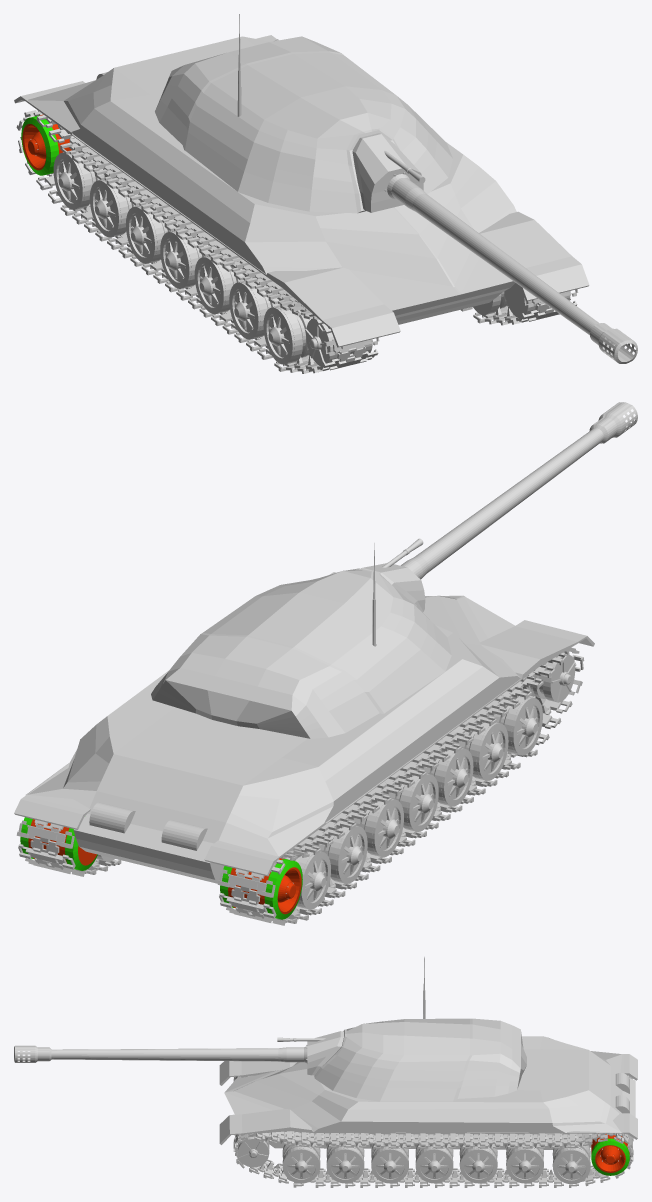
3 renders of one model, top to bottom at view 1: azimuth 30°, elevation 25°; view 2: azimuth 150°, elevation 25°; view 3: azimuth 270°, elevation 25°, orthographic. The views are drawn at different scales.
Visible parts, largest first — view 1: корпус, башня, Cube.003, дуло, Cylinder.088, Cylinder.089, Cylinder.106, Cylinder.107, Cylinder.142, Cylinder.125, Cylinder.124, Cylinder.157 (+3 smaller); view 2: корпус, башня, Cube.003, дуло, Cylinder.089, Cylinder.124, Cylinder.088, Cylinder.107, Cylinder.142, Cylinder.125, Cylinder.106, Cylinder.159 (+6 smaller); view 3: корпус, башня, дуло, Cube.003, Cylinder.071, Cylinder.053, Cylinder.070, Cylinder.034, Cylinder, Cylinder.035, Cylinder.052, Cylinder.158 (+2 smaller).
Part boxes in pixels (bbox=[...]): корпус: bbox=[27, 36, 516, 324]; башня: bbox=[155, 36, 452, 213]; Cube.003: bbox=[14, 35, 589, 347]; дуло: bbox=[352, 133, 637, 363]; Cylinder.088: bbox=[263, 305, 313, 364]; Cylinder.089: bbox=[229, 280, 288, 339]; Cylinder.106: bbox=[53, 150, 115, 209]; Cylinder.107: bbox=[89, 178, 150, 237]; Cylinder.142: bbox=[194, 256, 254, 314]; Cylinder.125: bbox=[160, 230, 219, 288]; Cylinder.124: bbox=[125, 205, 185, 263]; Cylinder.157: bbox=[22, 114, 71, 172]; корпус: bbox=[25, 595, 520, 883]; башня: bbox=[151, 568, 451, 738]; Cube.003: bbox=[14, 572, 594, 876]; дуло: bbox=[361, 402, 637, 612]; Cylinder.089: bbox=[453, 722, 508, 780]; Cylinder.124: bbox=[348, 798, 403, 857]; Cylinder.088: bbox=[488, 696, 542, 755]; Cylinder.107: bbox=[312, 825, 367, 883]; Cylinder.142: bbox=[418, 748, 473, 806]; Cylinder.125: bbox=[383, 773, 438, 831]; Cylinder.106: bbox=[284, 851, 330, 909]; Cylinder.159: bbox=[522, 654, 575, 702]; корпус: bbox=[224, 1036, 635, 1149]; башня: bbox=[314, 1018, 526, 1101]; дуло: bbox=[14, 1031, 343, 1075]; Cube.003: bbox=[219, 1054, 637, 1144]; Cylinder.071: bbox=[282, 1136, 320, 1183]; Cylinder.053: bbox=[552, 1139, 590, 1184]; Cylinder.070: bbox=[326, 1138, 364, 1183]; Cylinder.034: bbox=[415, 1135, 453, 1183]; Cylinder: bbox=[371, 1135, 408, 1183]; Cylinder.035: bbox=[459, 1135, 497, 1183]; Cylinder.052: bbox=[506, 1135, 543, 1183]; Cylinder.158: bbox=[237, 1134, 269, 1167].
Size of the model in its own units: 346 by 296 by 964.
